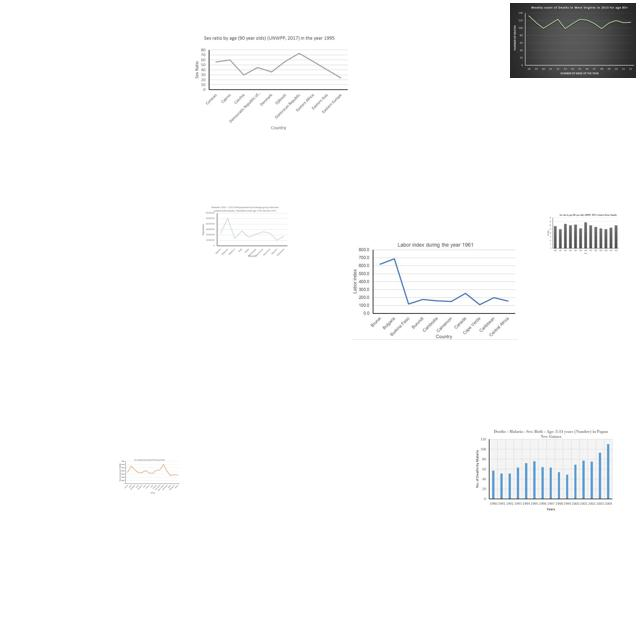Graph: (352, 240, 518, 340), (190, 33, 350, 130), (471, 426, 615, 512), (510, 3, 636, 78), (201, 205, 289, 258), (546, 213, 620, 255), (119, 459, 180, 494)
